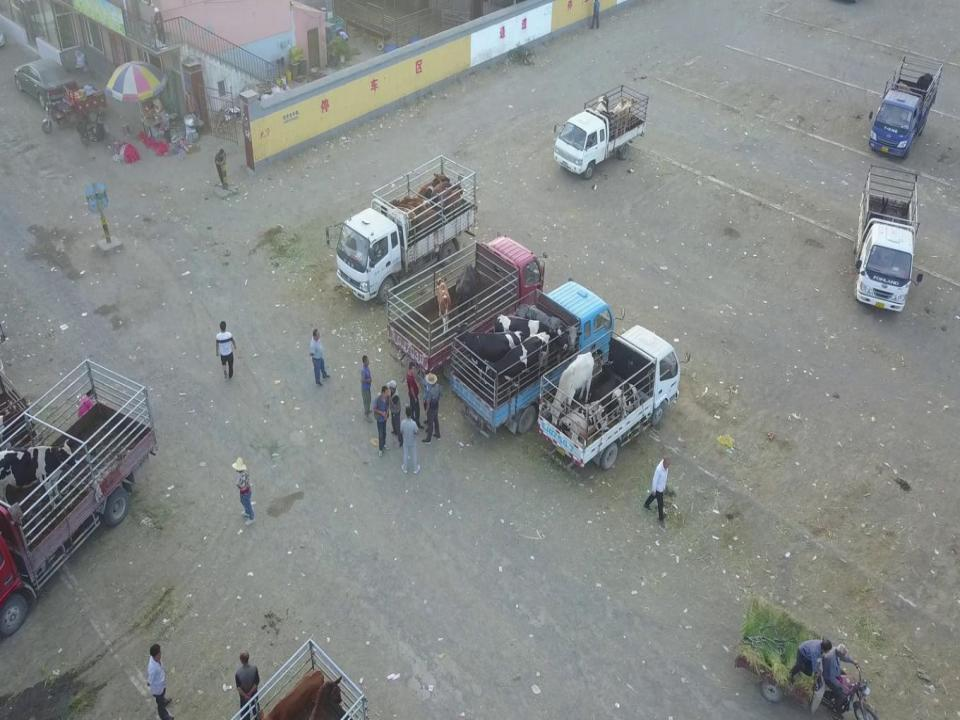car: (8, 56, 82, 112)
truck: (0, 355, 160, 641), (447, 270, 630, 442), (383, 227, 552, 387), (319, 151, 490, 304), (534, 316, 696, 474), (544, 80, 656, 181), (856, 161, 922, 317), (865, 49, 945, 159)
